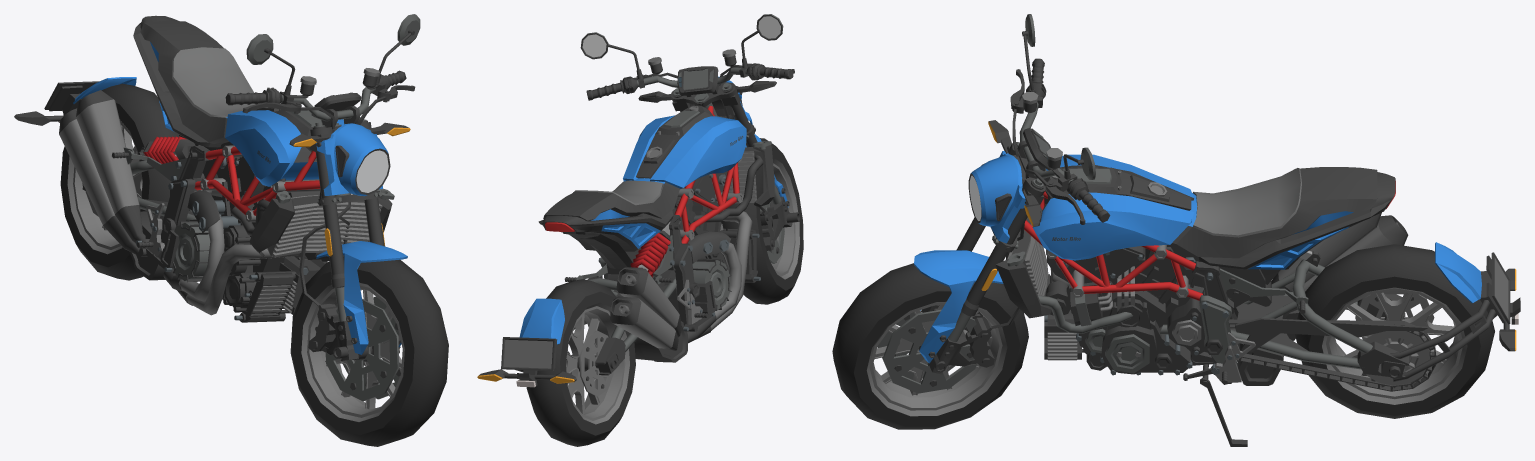
The model's file is motorcycle.glb.
3 renders of one model, left to right at view 1: azimuth 30°, elevation 25°; view 2: azimuth 150°, elevation 25°; view 3: azimuth 270°, elevation 25°, orthographic. The views are drawn at different scales.
Visible parts, largest first — view 1: body, wheel-front, fork, wheel-back; view 2: body, wheel-back, fork, wheel-front; view 3: body, wheel-front, fork, wheel-back.
Boxes of the visible parts, x1,y1,x2,y2 form: body: [14, 15, 394, 322]; wheel-front: [290, 256, 448, 446]; fork: [225, 14, 420, 360]; wheel-back: [60, 83, 179, 280]; body: [477, 105, 774, 387]; wheel-back: [526, 279, 635, 446]; fork: [580, 14, 794, 250]; wheel-front: [721, 138, 803, 304]; body: [995, 154, 1520, 446]; wheel-front: [832, 263, 1028, 429]; fork: [914, 14, 1110, 374]; wheel-back: [1295, 244, 1494, 418].
Bounding box in the file's own units: 0.8481 × 1.4 × 2.25.
3 materials, 1 textured.
